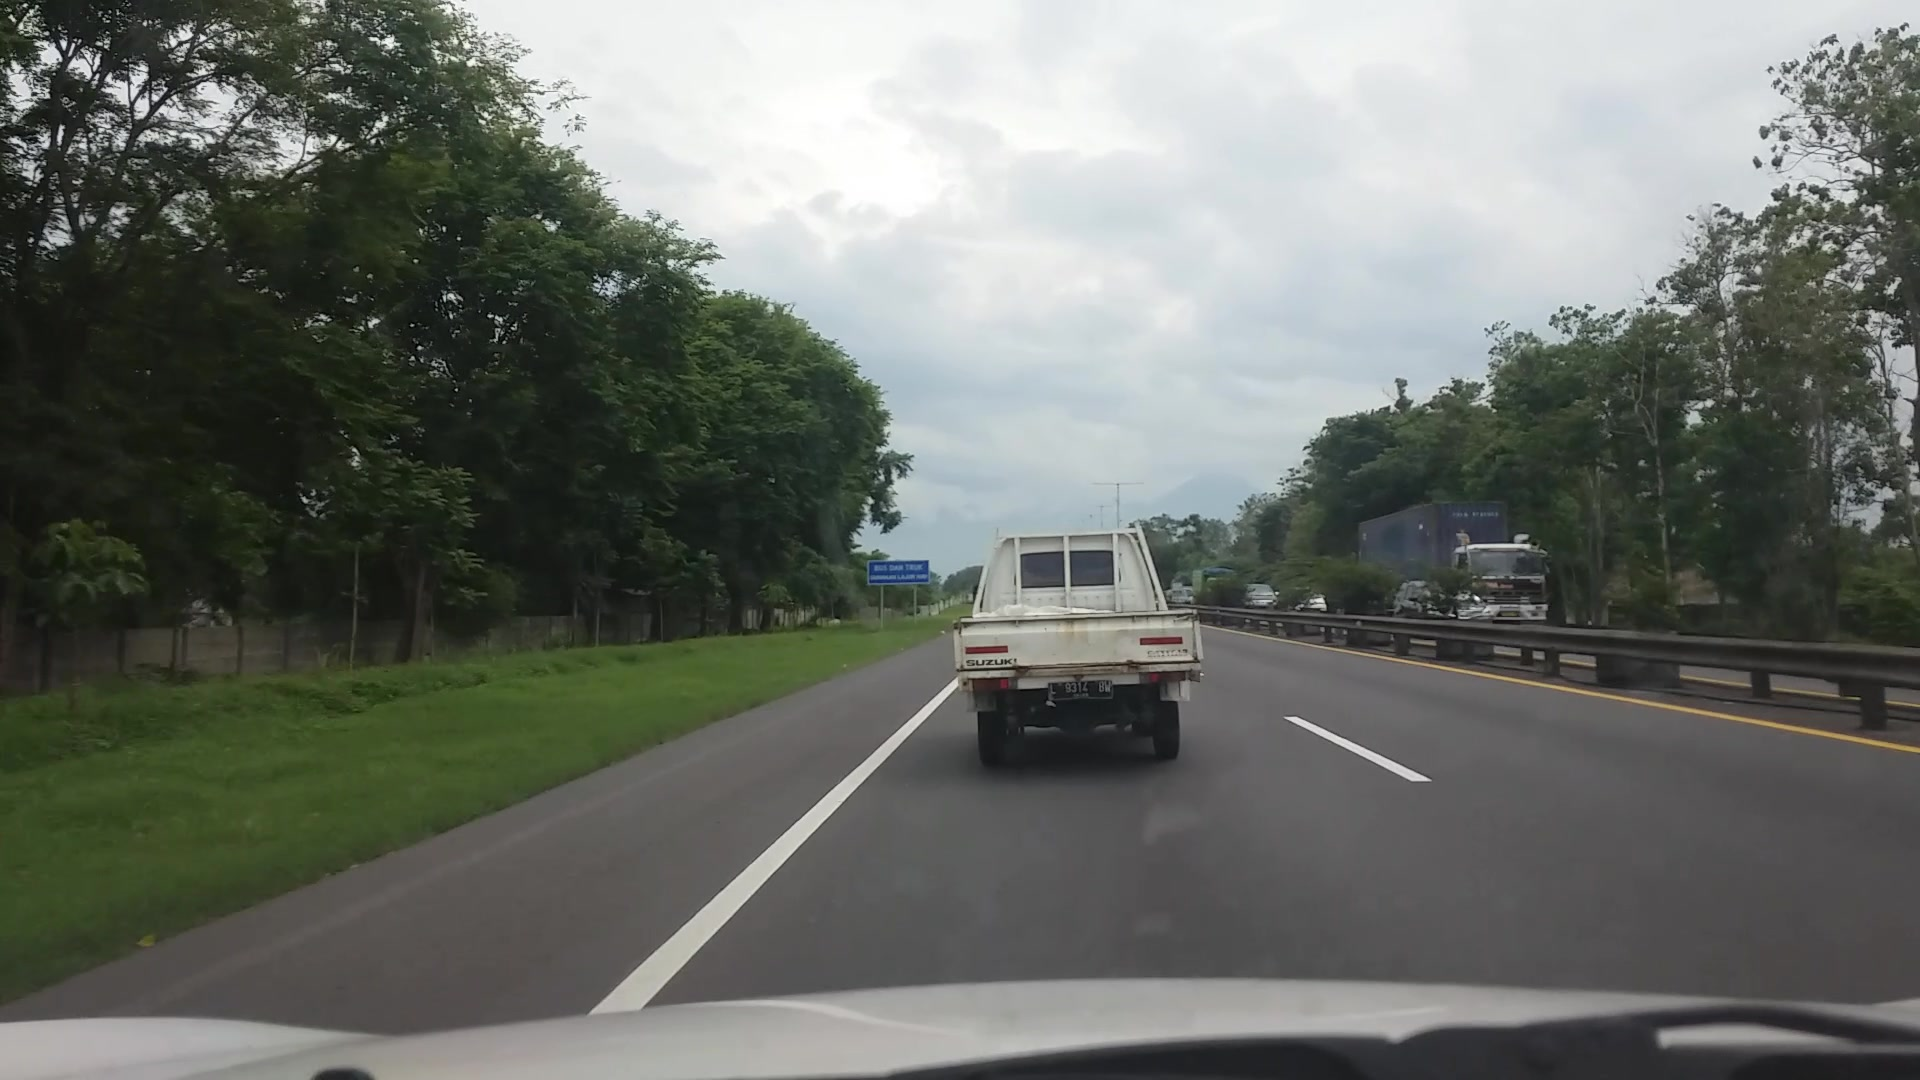plate_positive: (1047, 680, 1113, 702)
